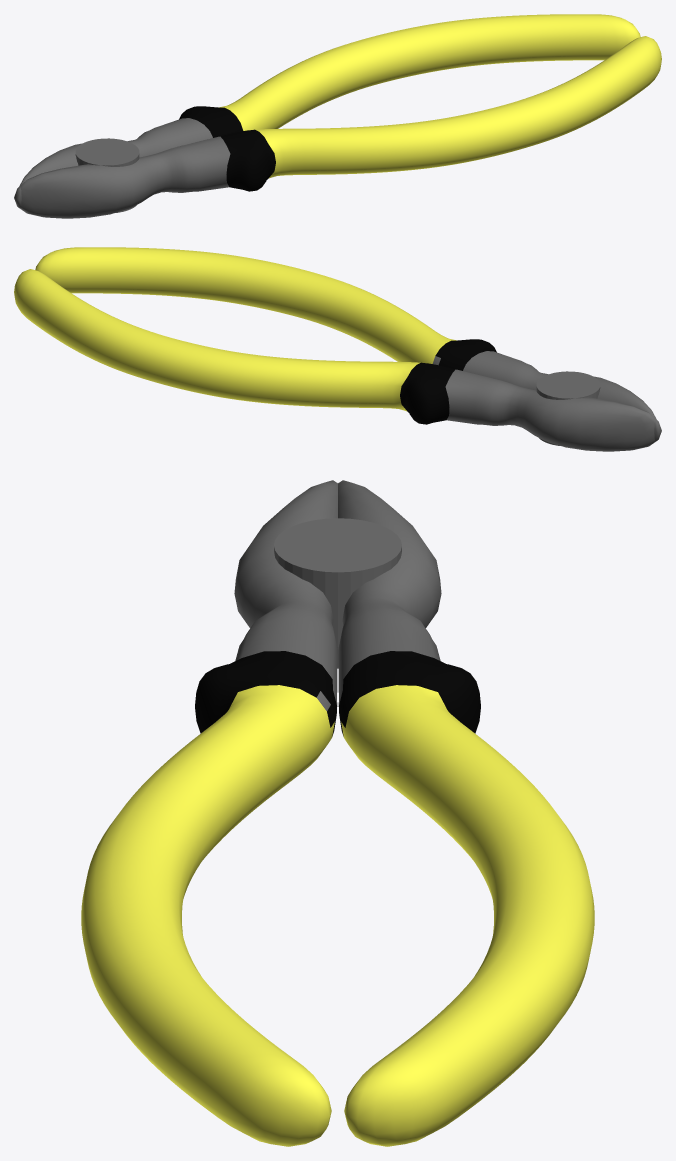
File: Piler01.fbx
3 renders of one model, top to bottom at view 1: azimuth 30°, elevation 25°; view 2: azimuth 150°, elevation 25°; view 3: azimuth 270°, elevation 25°, orthographic. The views are drawn at different scales.
Visible parts, largest first — view 1: Piler01; view 2: Piler01; view 3: Piler01.
Part boxes in pixels (x1=…): Piler01: x1=14, y1=14, x2=661, y2=218; Piler01: x1=14, y1=247, x2=661, y2=451; Piler01: x1=81, y1=480, x2=594, y2=1146.
Bounding box in the file's own units: 16.56 × 1.22 × 5.82.
